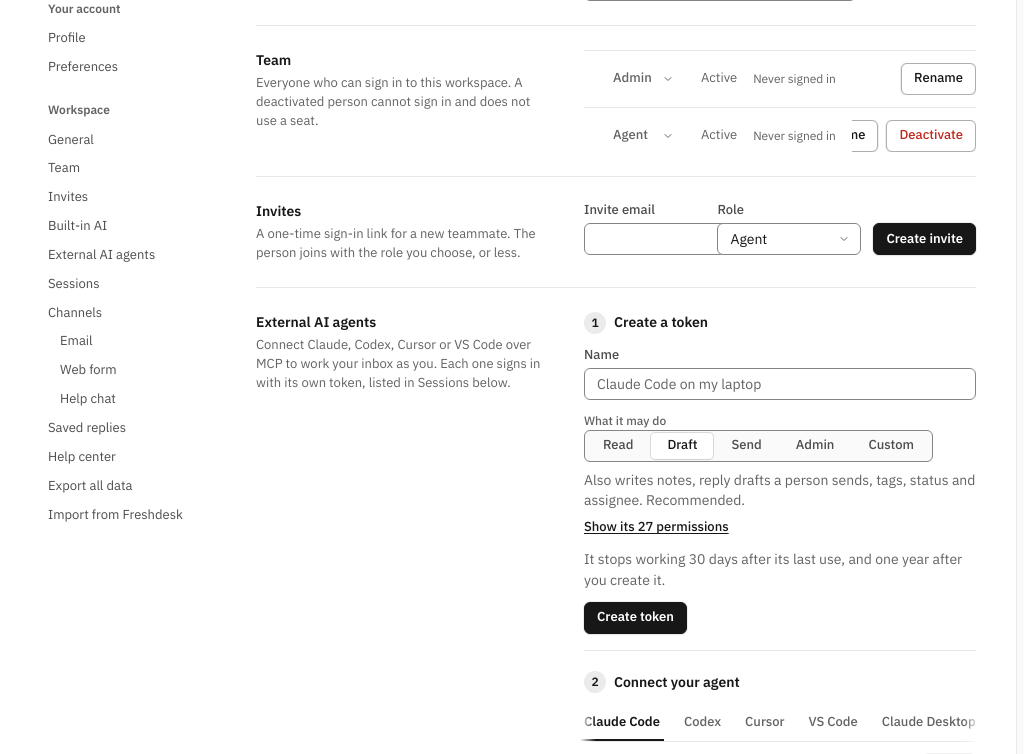
Test: a refused token request reaches the app-wide handling of signed-out and locked workspaces
This screenshot has width=1024, height=754.
(page scrolled)
Type "Codex" into the field labelled "Name".
click(780, 384); type("Codex")  # box [584,368,976,400]
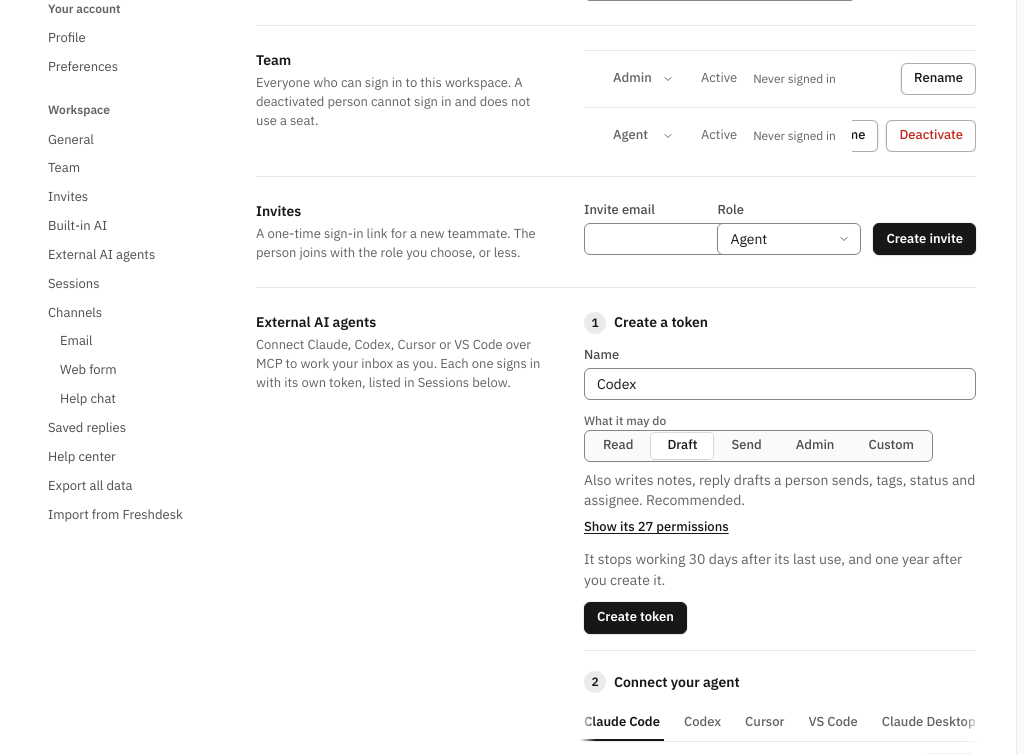
Click the button "Create token".
click(636, 618)  # box [584,602,687,634]
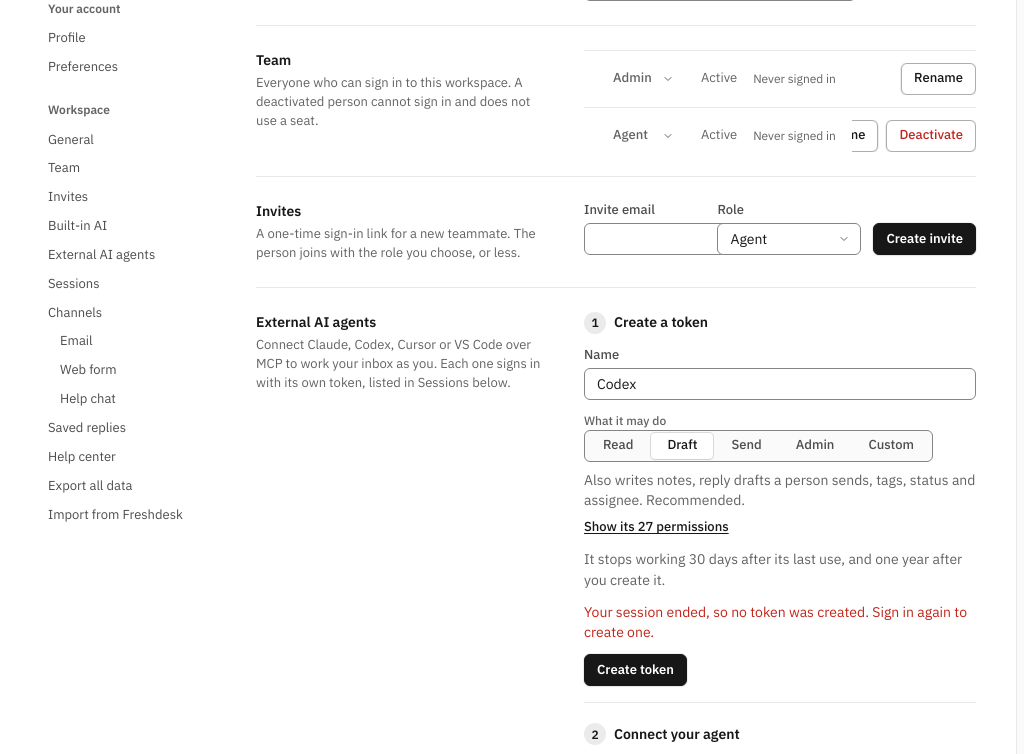
Check: the message shows "Your session ended, so no token was created.", box [584,603,967,641]
